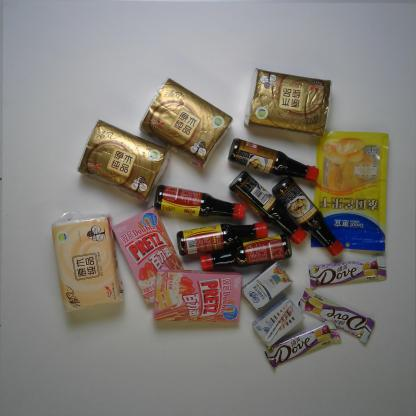Chocolate: (296, 287, 376, 344), (263, 320, 343, 370), (308, 255, 388, 289)
Dessert: (112, 206, 184, 306), (152, 268, 243, 323)
Dried Fruit: (310, 129, 390, 252)
Milk: (252, 296, 306, 348), (242, 260, 294, 312)
Seasoner: (229, 170, 308, 245), (271, 176, 344, 257), (227, 137, 320, 183), (199, 233, 294, 272), (153, 183, 246, 221), (176, 221, 269, 256)
Tissue: (138, 76, 235, 170), (76, 118, 172, 204), (51, 210, 125, 313), (243, 66, 333, 138)
